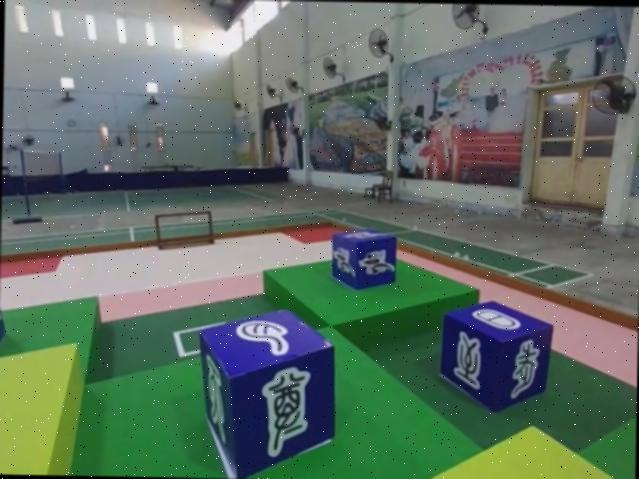R1 Blue: (329, 228, 396, 292)
R2 Fake Blue: (197, 306, 337, 479), (438, 299, 552, 413)
